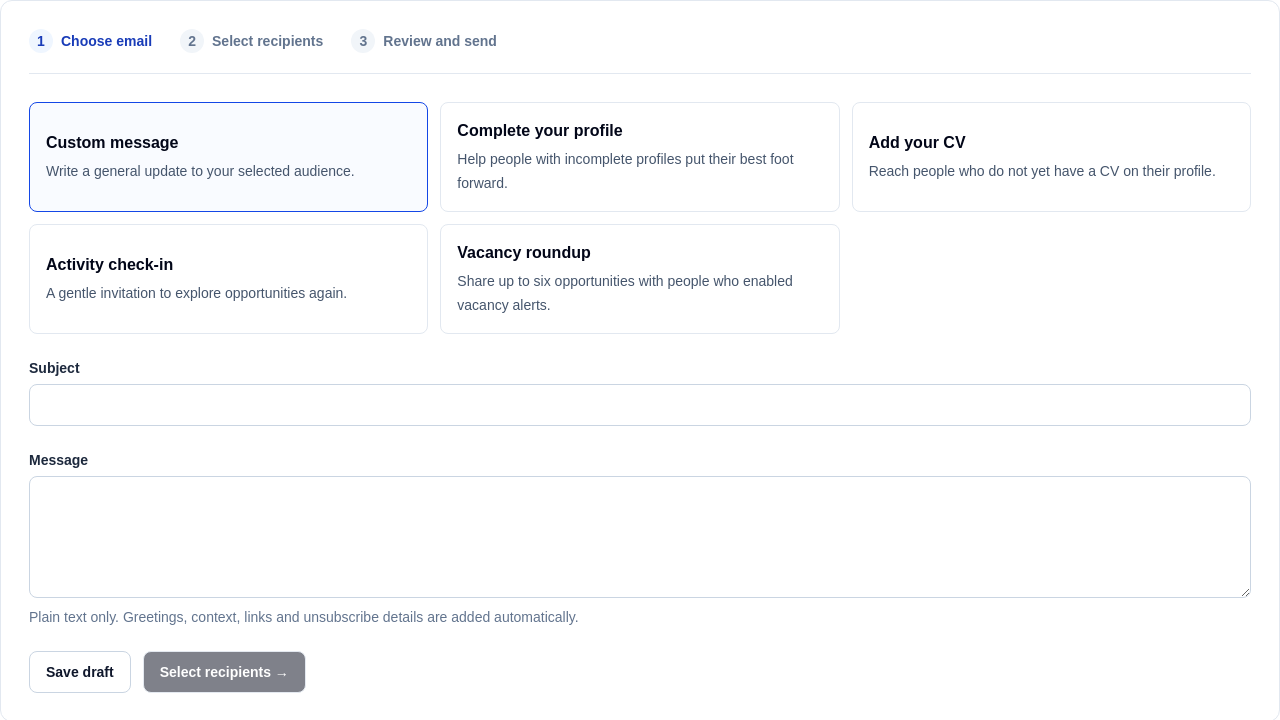
Candidate email centre › does not expose account group or exact activity timestamps to recruiters
Type "A helpful update" into the field labelled "Subject" at x=640, y=405, box [29, 384, 1251, 426]
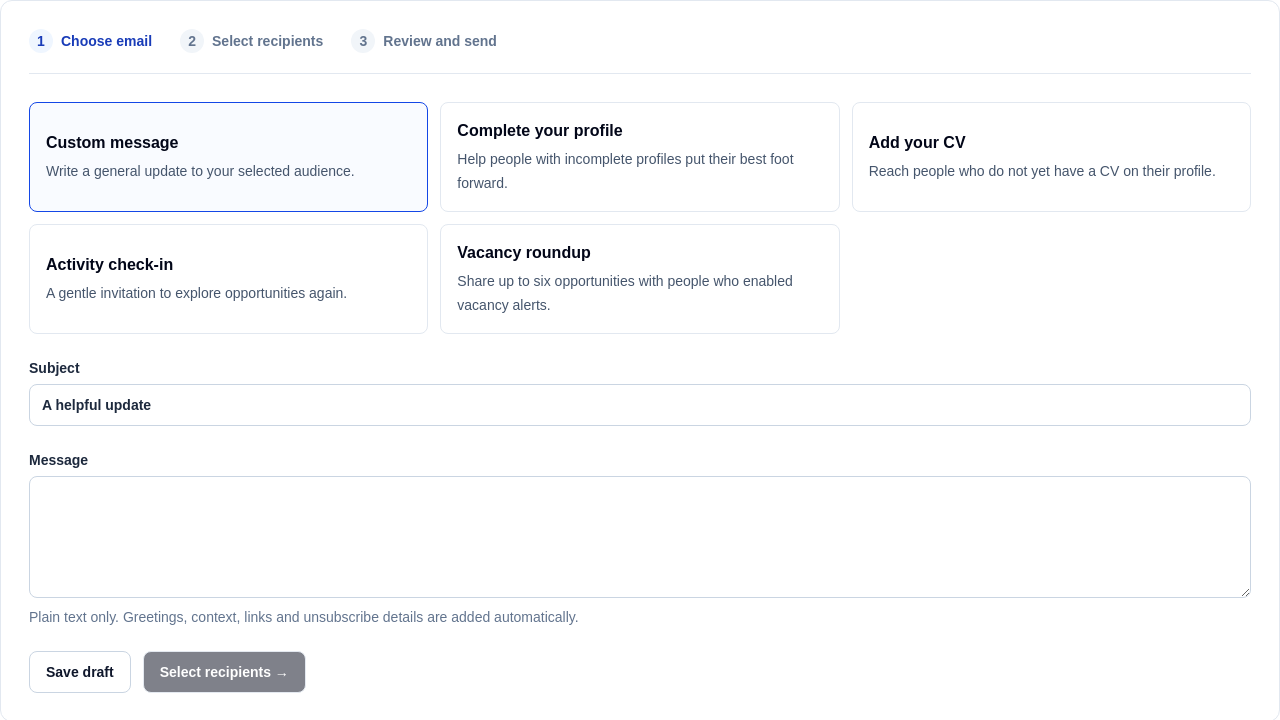
Type "A useful message" into the text box labelled "Message" at x=640, y=537, box [29, 476, 1251, 598]
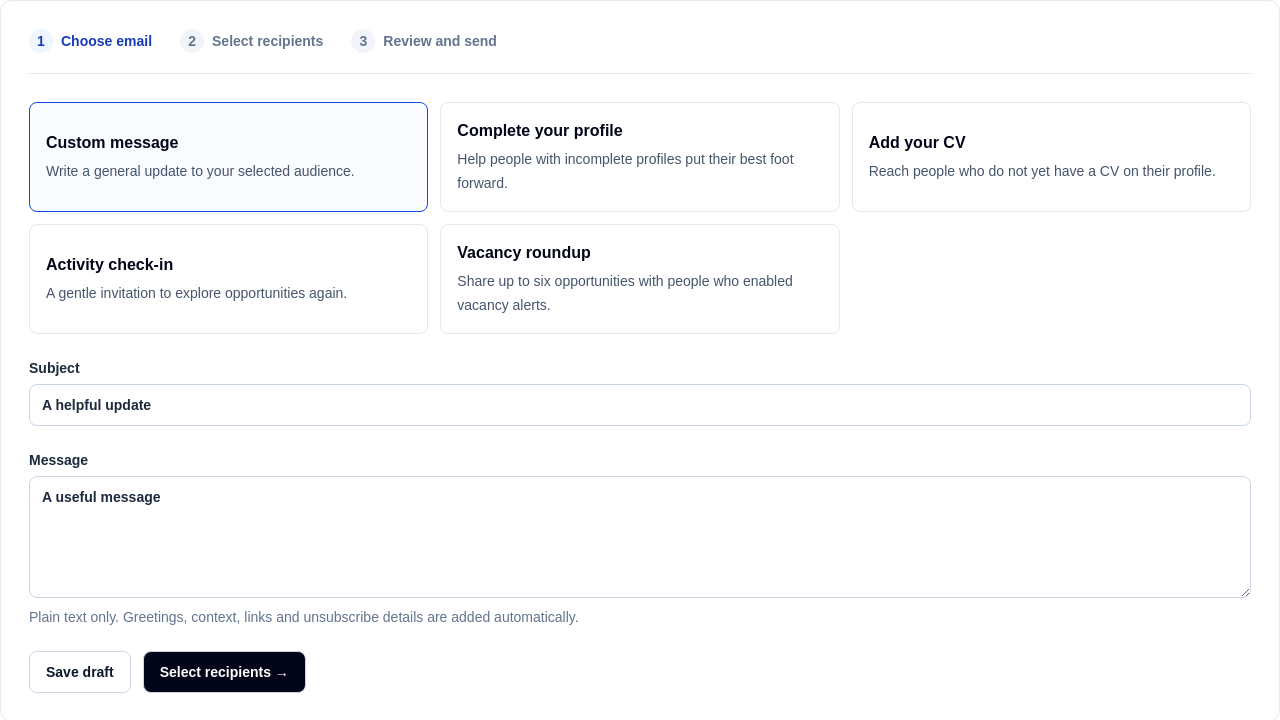
Click the button "Select recipients →" at x=224, y=672, box [143, 651, 306, 693]
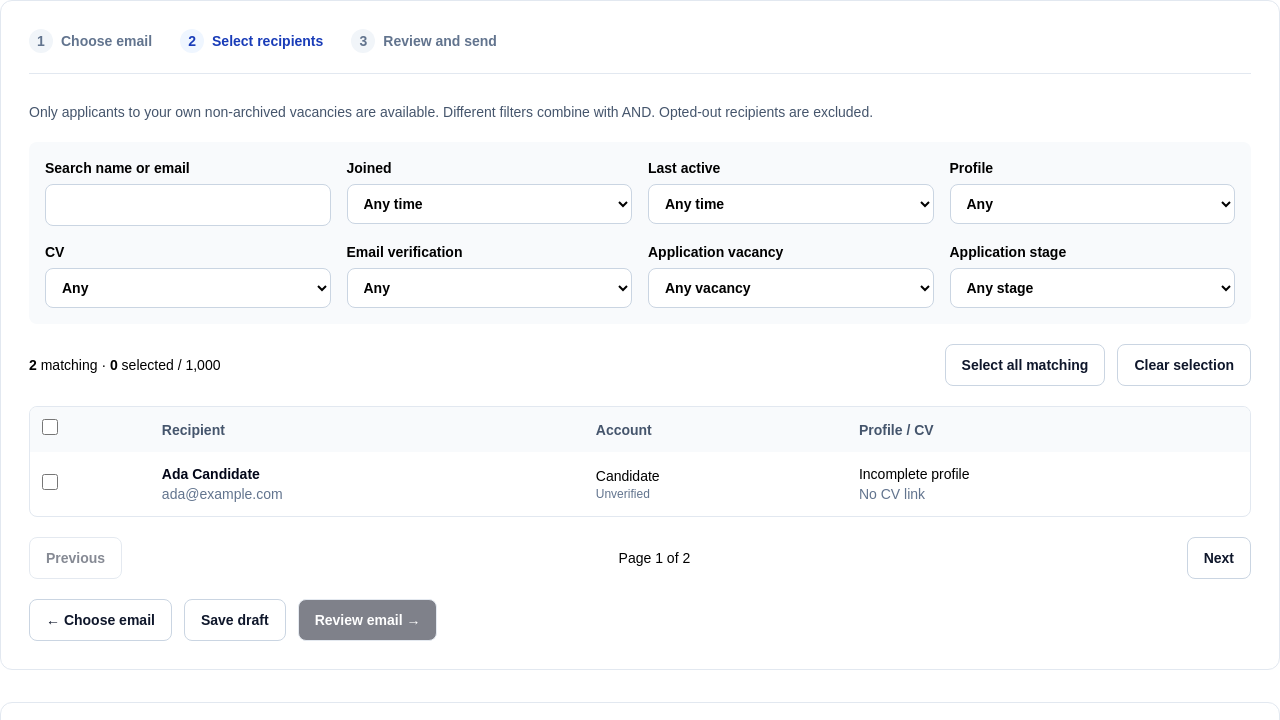
Result: the checkbox named "Select Ada Candidate" is shown at [42, 474, 58, 490]
Result: the field labelled "Account group" is gone
Result: the dropdown labelled "Last active" is shown at [648, 184, 934, 224]
